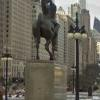Statue: (16, 1, 68, 60)
